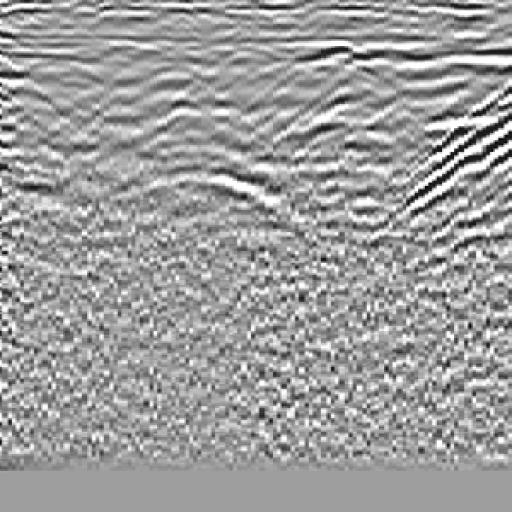metalic: (137, 138, 293, 260)
nonmetalic: (385, 70, 512, 273)
